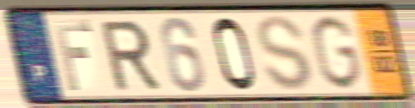0: (211, 14, 257, 93)
6: (158, 14, 207, 94)
F: (51, 19, 95, 93)
G: (307, 13, 364, 92)
R: (97, 17, 163, 93)
S: (254, 13, 315, 93)
